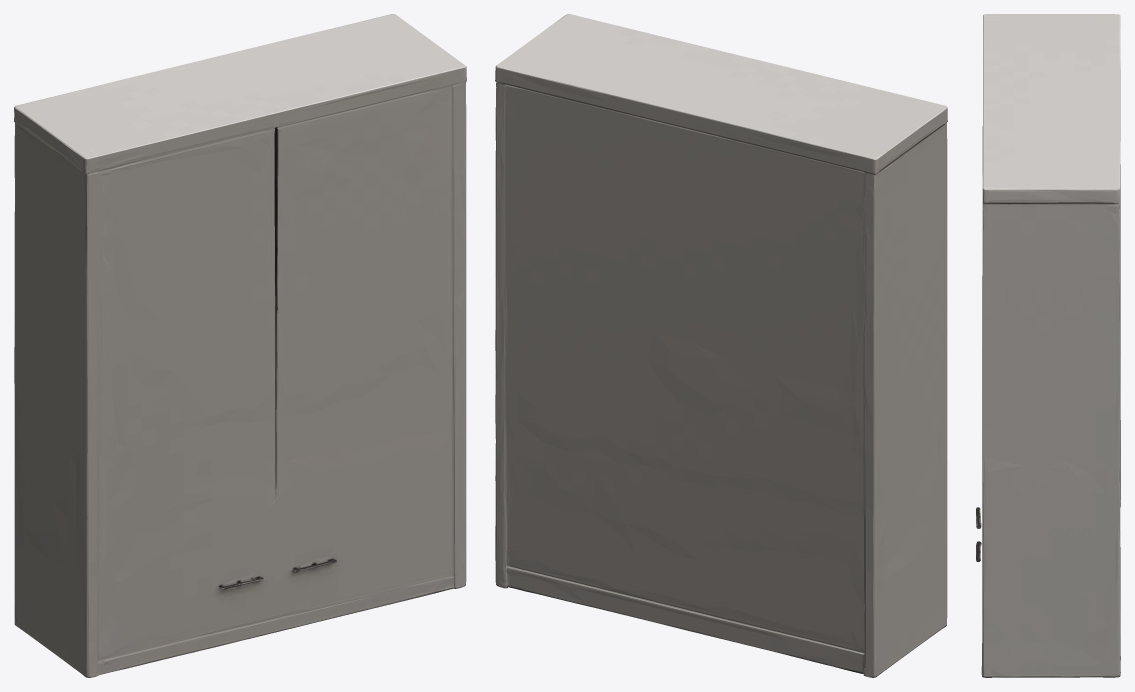
The model's file is 3724cafb-cd4f-4c38-a912-48668d13e277.glb.
3 views of the same model, side by side, from view 1: azimuth 30°, elevation 25°; view 2: azimuth 150°, elevation 25°; view 3: azimuth 270°, elevation 25° (orthographic). The views are drawn at different scales.
Visible parts, largest first — view 1: world; view 2: world; view 3: world.
Part boxes in pixels (bbox=[...]): world: bbox=[14, 14, 466, 677]; world: bbox=[495, 14, 947, 677]; world: bbox=[976, 14, 1120, 677].
Size of the model in its own units: 0.7685 by 1 by 0.2677.
Materials: 1 (1 with a texture image).
